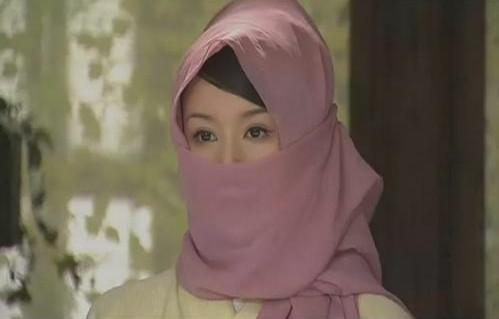WRONG: (187, 93, 288, 213)
